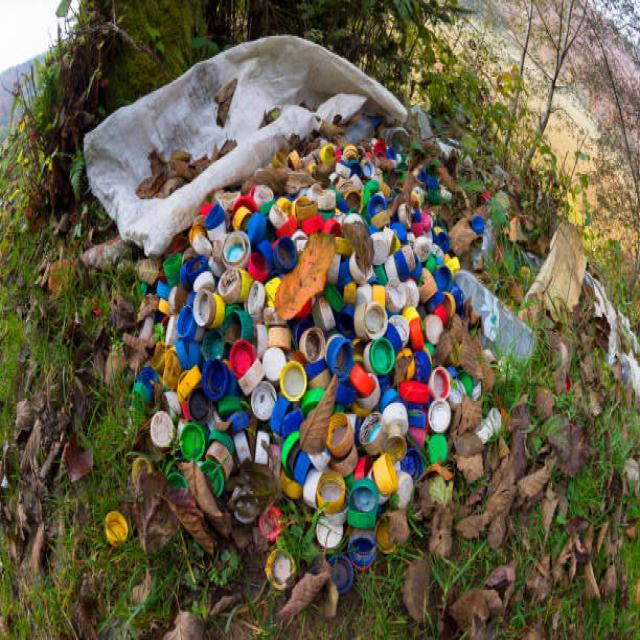cardboard: (185, 250, 411, 522)
